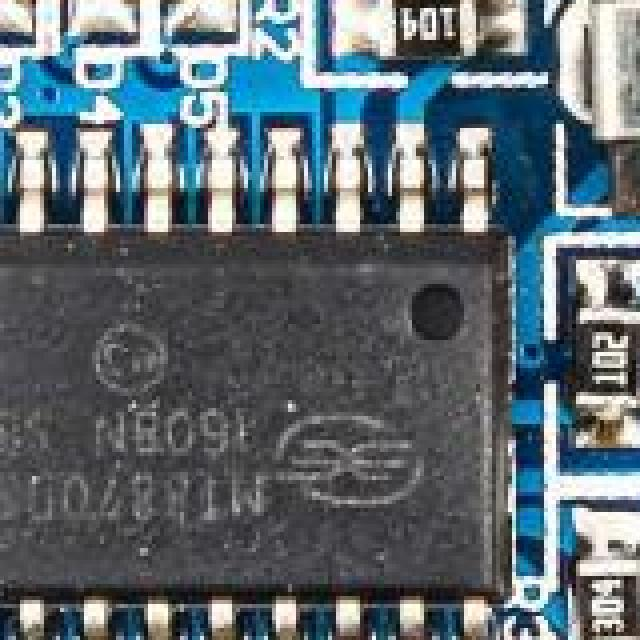IC: (0, 132, 532, 640)
LED: (56, 0, 144, 48), (164, 0, 252, 28), (0, 0, 36, 28)
connector: (560, 0, 640, 212)
resistor: (552, 484, 640, 640), (572, 252, 640, 444), (352, 0, 524, 48)
